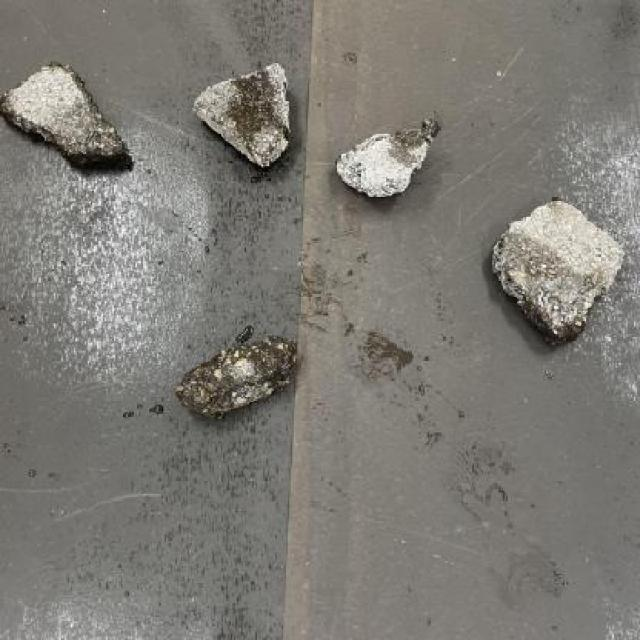Road Debris: (487, 236, 590, 342), (180, 346, 300, 402), (64, 101, 128, 176), (226, 73, 280, 152), (386, 114, 440, 170)
